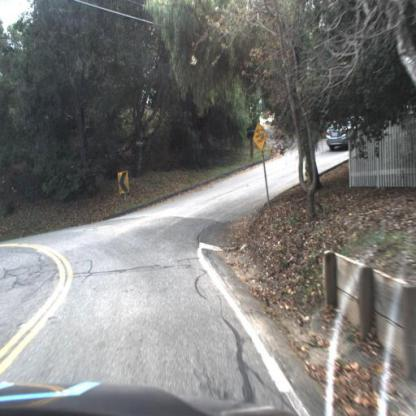car: (325, 117, 364, 152), (328, 117, 362, 151)
